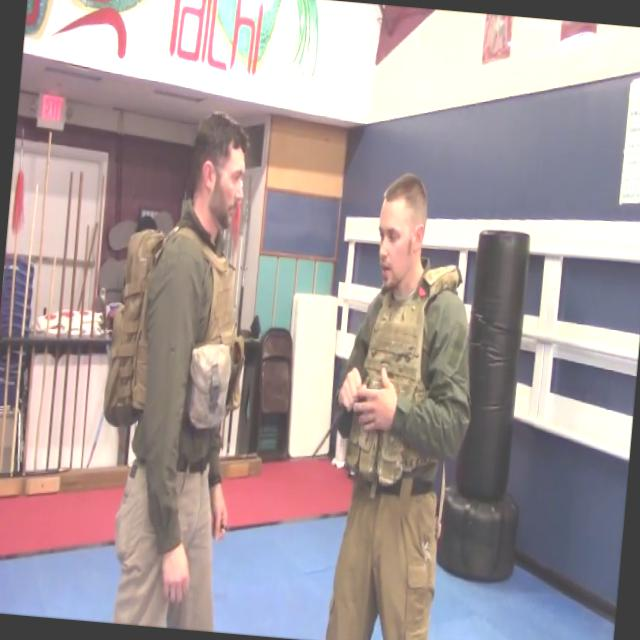knife: (300, 400, 352, 470)
